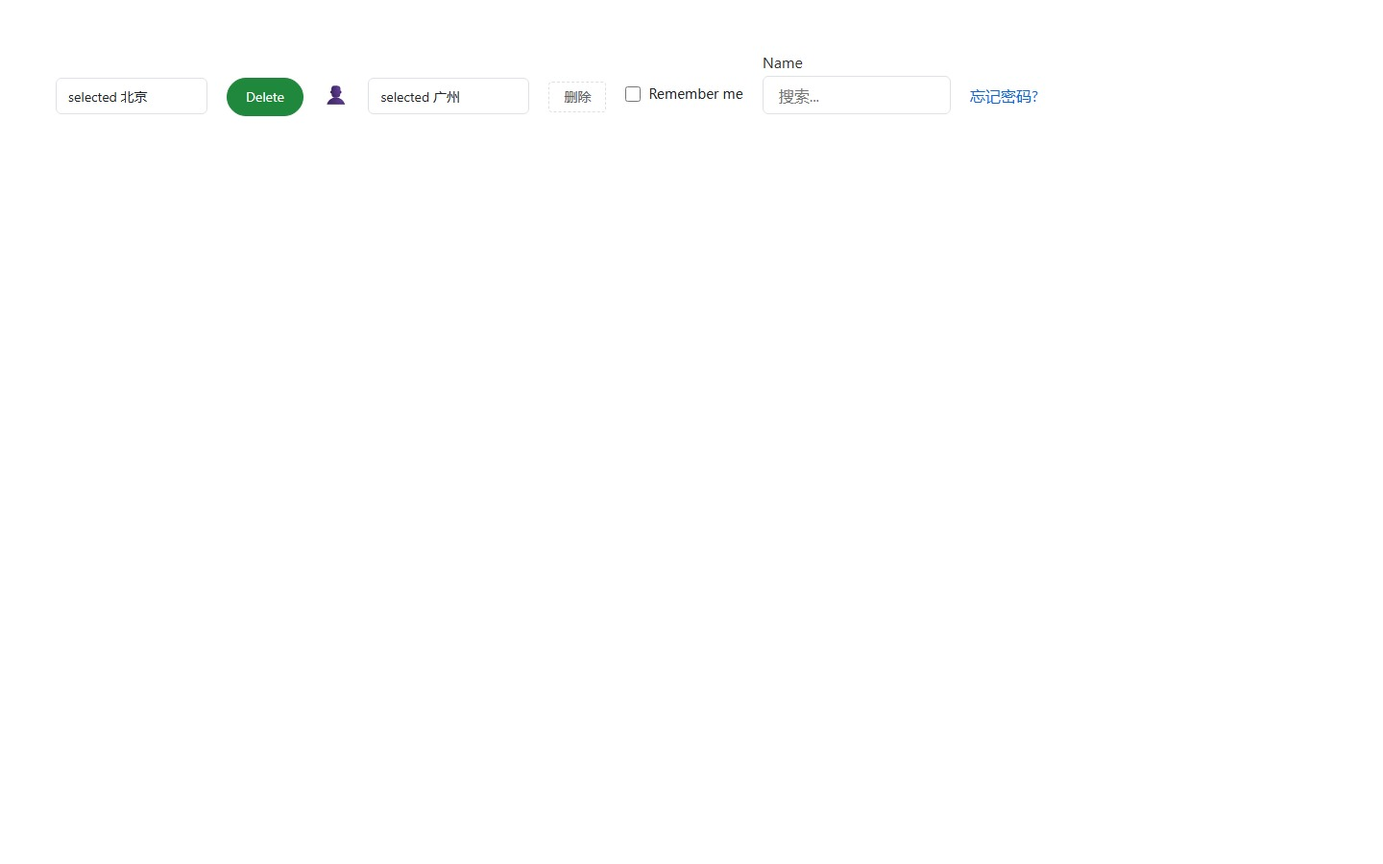button: (227, 77, 303, 116), (549, 81, 606, 112)
checkbox: (626, 86, 641, 101)
icon: (649, 84, 743, 103), (323, 84, 349, 103)
input: (762, 76, 950, 114)
link: (970, 85, 1038, 105)
radio: (626, 84, 743, 103)
select: (368, 78, 530, 114), (56, 78, 207, 114)
